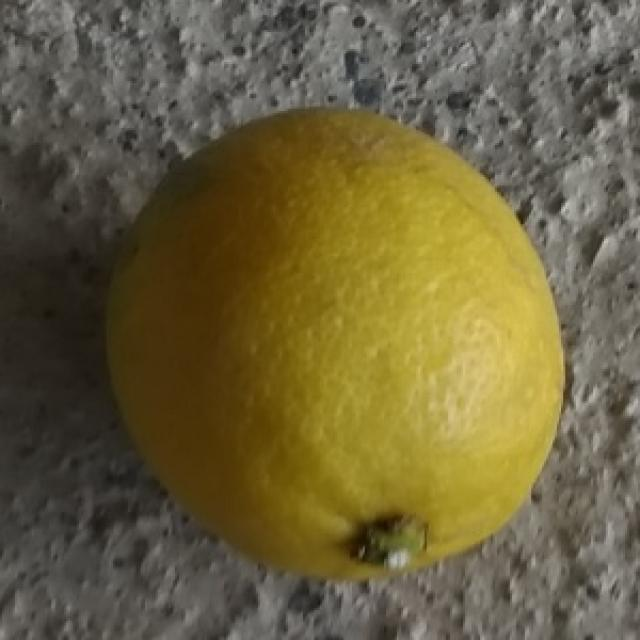Ripe: (98, 101, 572, 588)
